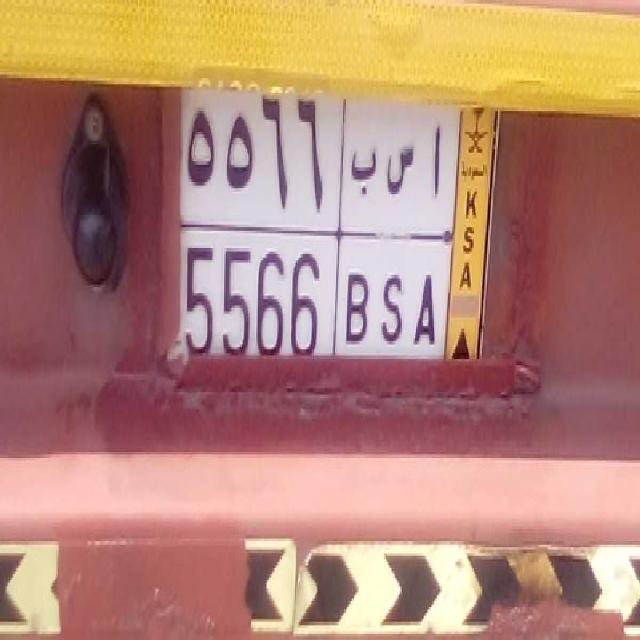license_plate: (172, 222, 450, 395)
